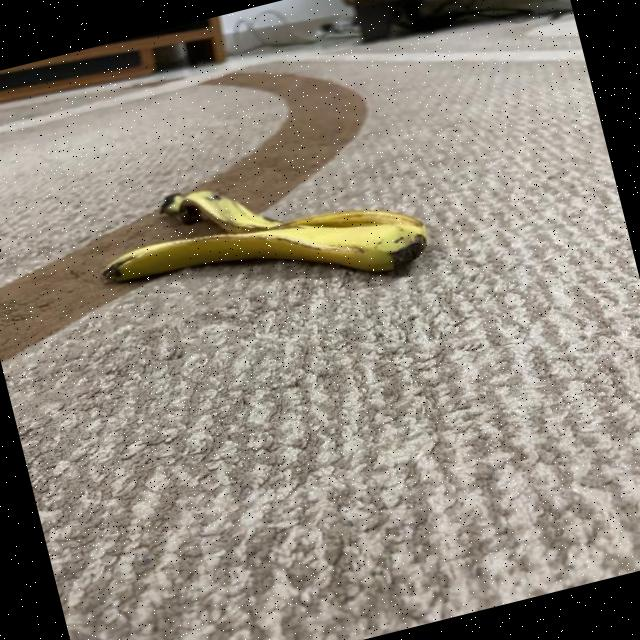banana-peel: (84, 134, 433, 342)
